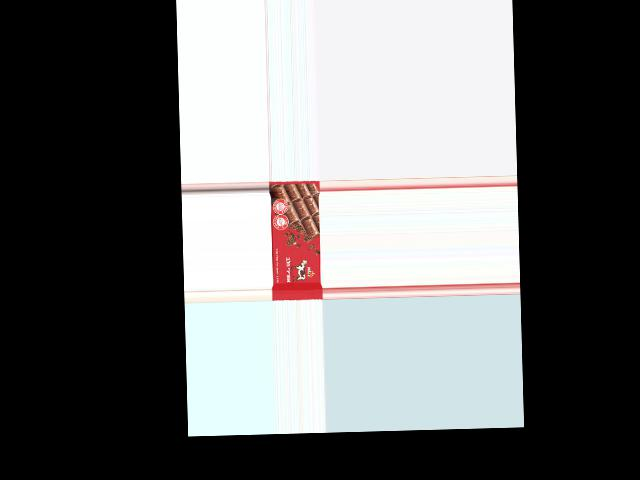chocolate: (268, 181, 322, 301)
